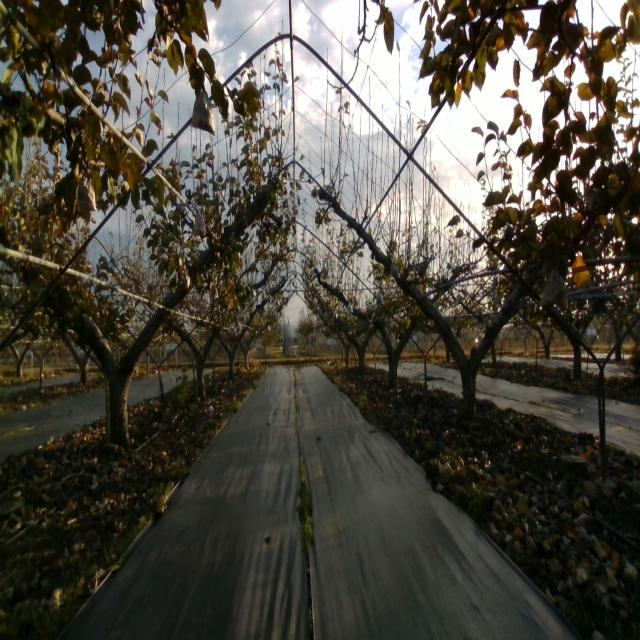pearbags: (540, 268, 568, 312), (191, 90, 215, 136), (72, 173, 97, 213), (194, 208, 207, 236), (389, 258, 401, 279)
